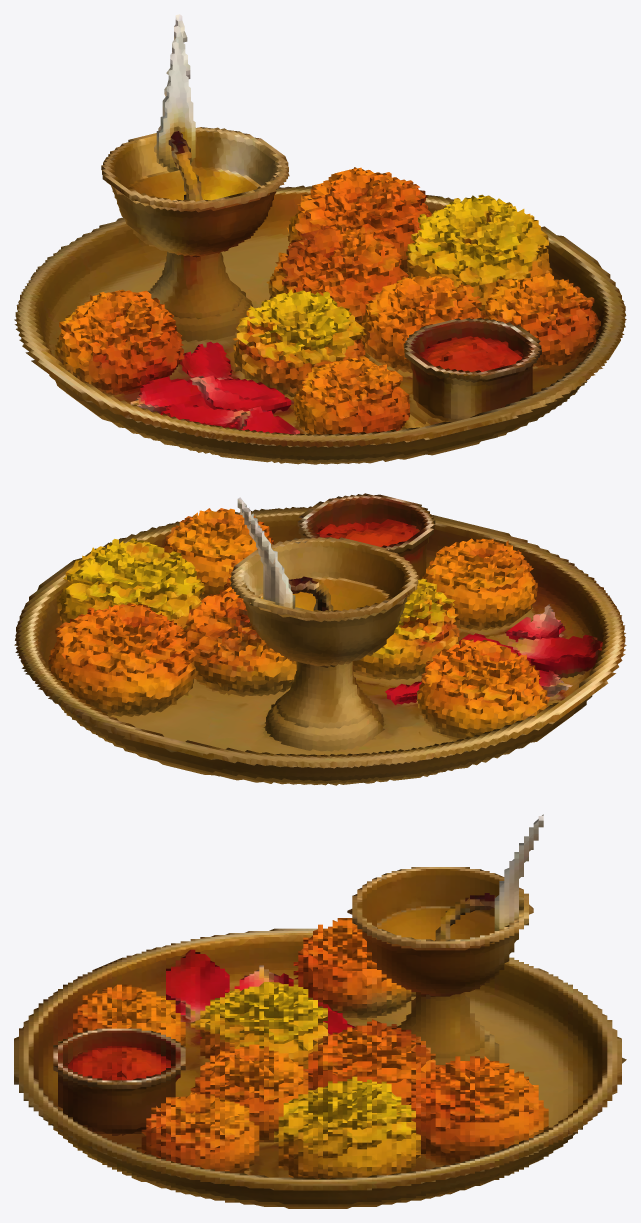
Rendered from thali.glb.
The picture shows the model from 3 angles, top to bottom: view 1: azimuth 30°, elevation 25°; view 2: azimuth 150°, elevation 25°; view 3: azimuth 270°, elevation 25°; orthographic projection.
Parts seen in each view (by area): view 1: tripo_node_5bdf68ae-a918-4b45-a25b-6c27e0ecdd54; view 2: tripo_node_5bdf68ae-a918-4b45-a25b-6c27e0ecdd54; view 3: tripo_node_5bdf68ae-a918-4b45-a25b-6c27e0ecdd54.
Part boxes in pixels (x1,y1,x2,y2): tripo_node_5bdf68ae-a918-4b45-a25b-6c27e0ecdd54: (14,14,626,464); tripo_node_5bdf68ae-a918-4b45-a25b-6c27e0ecdd54: (14,493,626,785); tripo_node_5bdf68ae-a918-4b45-a25b-6c27e0ecdd54: (14,814,626,1208).
Size of the model in its own units: 0.972 by 0.4703 by 0.9799.
1 material, 1 textured.
